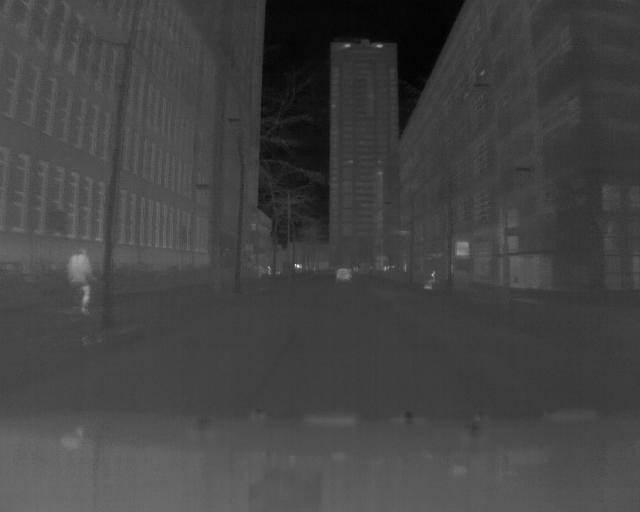car: (335, 266, 355, 285)
person: (65, 242, 97, 318)
